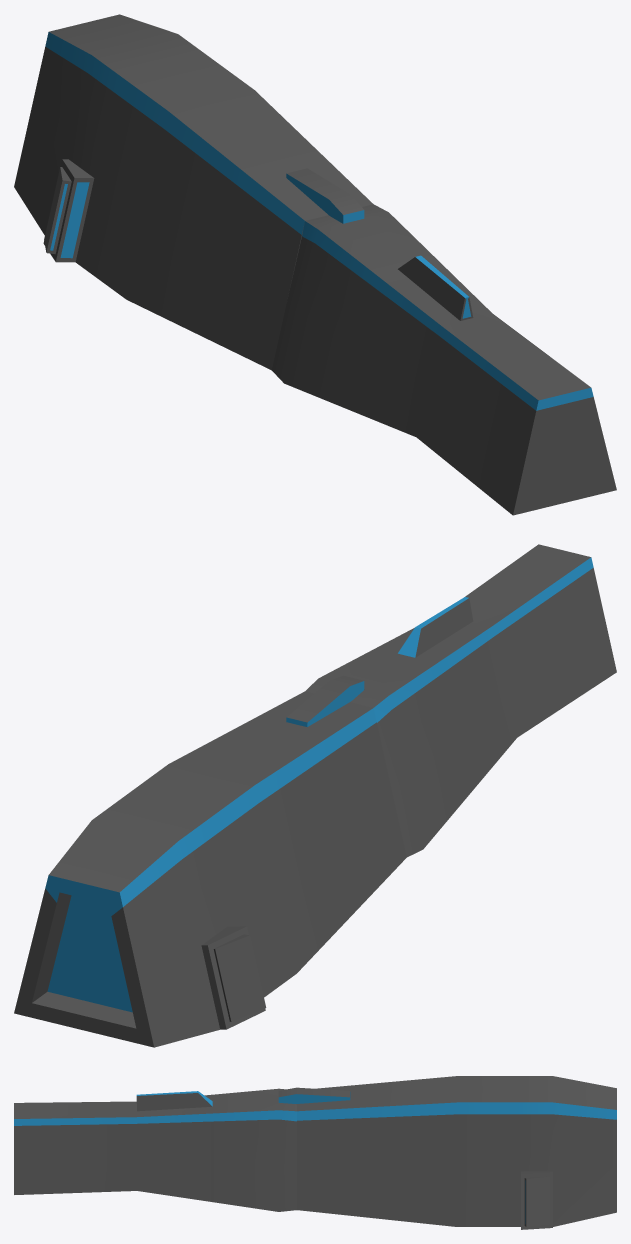
File: test_launcher.dae
The picture shows the model from 3 angles, top to bottom: view 1: azimuth 30°, elevation 25°; view 2: azimuth 150°, elevation 25°; view 3: azimuth 270°, elevation 25°; orthographic projection. The views are drawn at different scales.
Parts seen in each view (by area): view 1: launcher_muzzle, launcher_stock; view 2: launcher_muzzle, launcher_stock; view 3: launcher_muzzle, launcher_stock.
Boxes of the visible parts, x1,y1,x2,y2 form: launcher_muzzle: (14, 14, 373, 370); launcher_stock: (271, 204, 616, 515); launcher_muzzle: (14, 675, 406, 1047); launcher_stock: (305, 544, 616, 857); launcher_muzzle: (278, 1076, 616, 1229); launcher_stock: (14, 1088, 296, 1211).
Size of the model in its own units: 0.7775 by 2.94 by 0.602.
